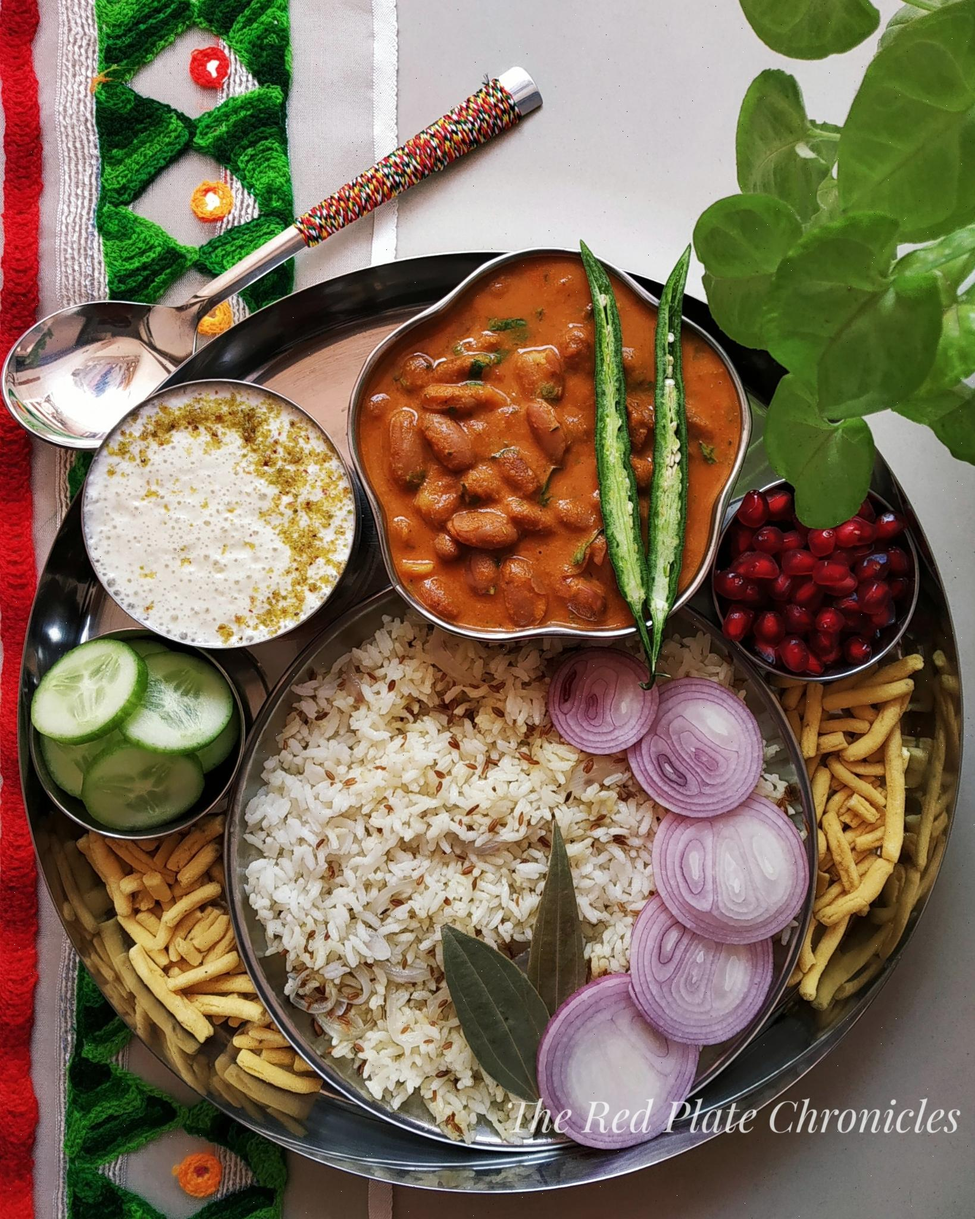rajma: (385, 330, 685, 632)
rice: (290, 699, 535, 1127)
